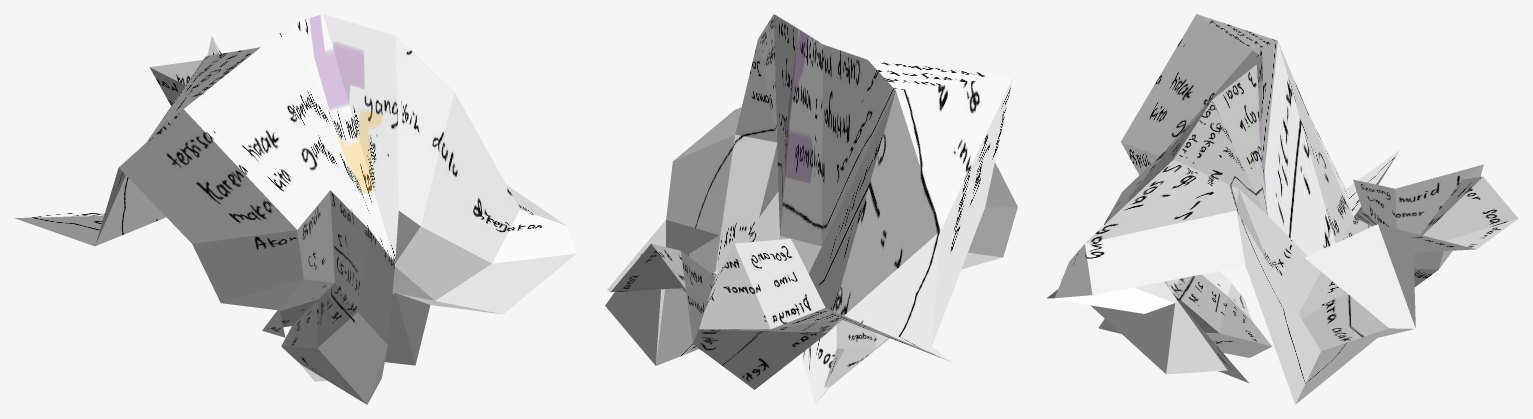
File: Trash_Kertas_01.fbx
The picture shows the model from 3 angles, left to right: view 1: azimuth 30°, elevation 25°; view 2: azimuth 150°, elevation 25°; view 3: azimuth 270°, elevation 25°; orthographic projection. The views are drawn at different scales.
Visible parts, largest first — view 1: Kertas_00; view 2: Kertas_00; view 3: Kertas_00.
Boxes of the visible parts, left/top/right/bottom form: Kertas_00: left=14, top=14, right=576, bottom=404; Kertas_00: left=605, top=14, right=1017, bottom=404; Kertas_00: left=1047, top=14, right=1518, bottom=404.
Bounding box in the file's own units: 17.52 × 15.85 × 20.9.
Materials: 1 (1 with a texture image).
